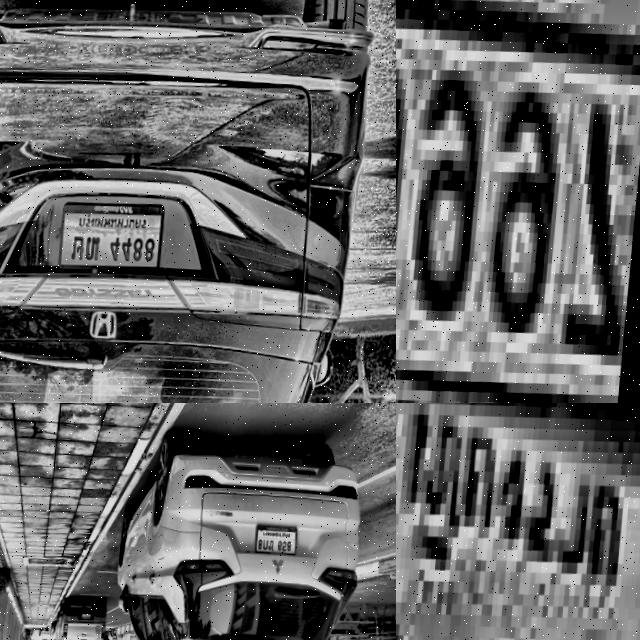license-plate: (396, 0, 640, 403), (396, 403, 640, 640), (59, 200, 167, 277), (256, 528, 302, 562), (84, 613, 95, 625)
